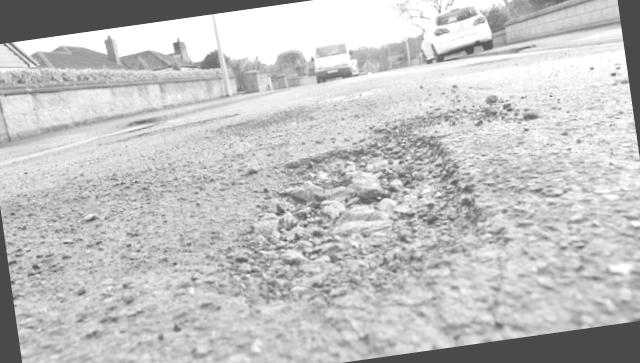Pothole: (206, 62, 560, 346)
